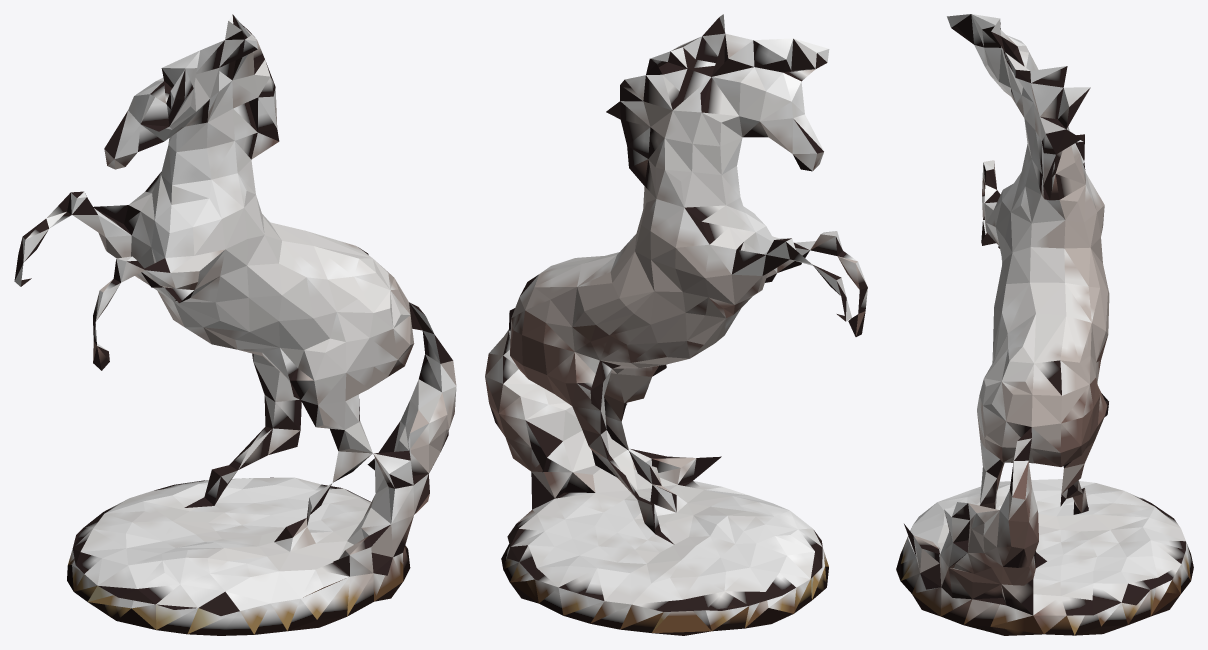
File: horse_statue.obj
3 renders of one model, left to right at view 1: azimuth 30°, elevation 25°; view 2: azimuth 150°, elevation 25°; view 3: azimuth 270°, elevation 25°, orthographic. The views are drawn at different scales.
Parts seen in each view (by area): view 1: mesh; view 2: mesh; view 3: mesh.
Boxes of the visible parts, x1,y1,x2,y2 form: mesh: (14,14,456,635); mesh: (485,14,867,635); mesh: (896,14,1193,635).
Bounding box in the file's own units: 17.36 × 24 × 11.87.
1 material, 1 textured.
